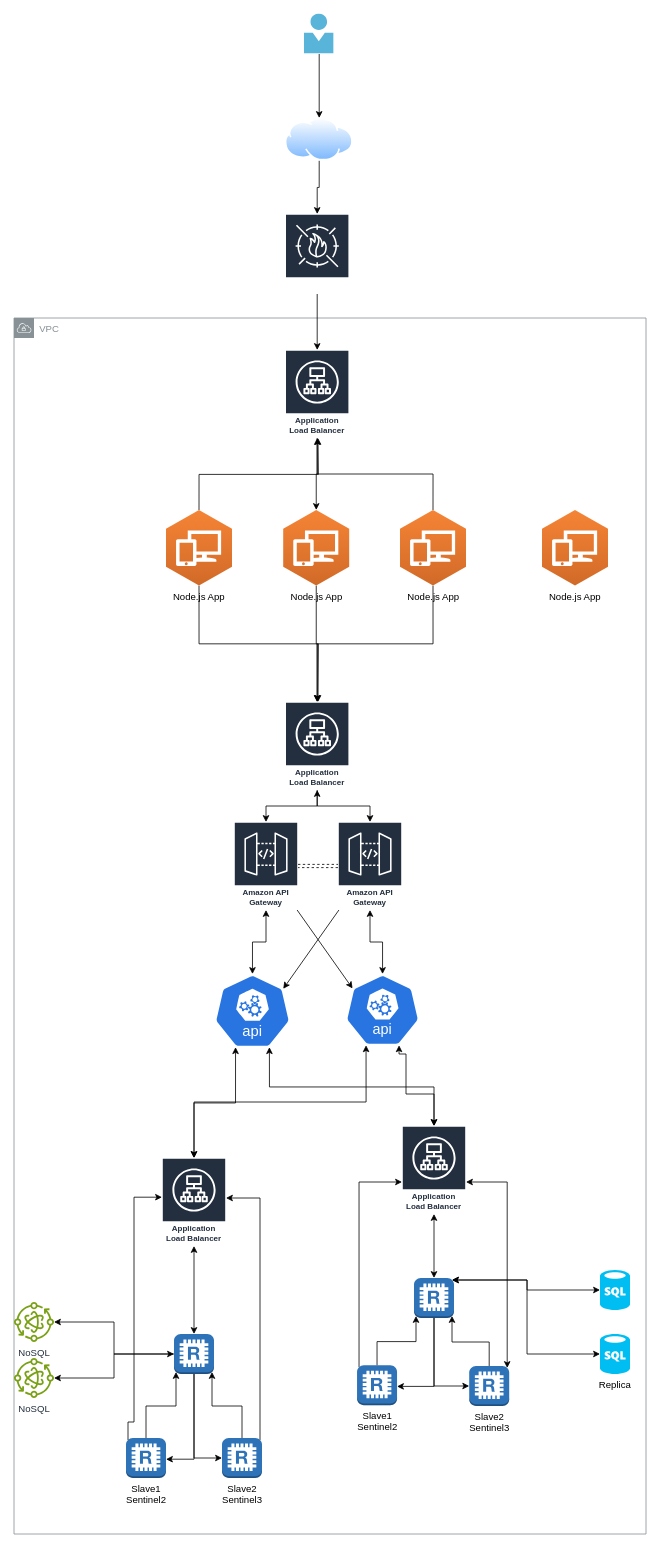
The diagram is 660 pixels wide and 1548 high, and some of its shapes have lost their labels. The shapes that lost their labels are listed below. From the top down, each one's box as (x1, y1, x2, y2) in pixels, then its label:
(284, 213, 349, 294): AWS WAF
(413, 1277, 454, 1318): Main + Sentinel1
(173, 1333, 214, 1374): Main +Sentinel1
